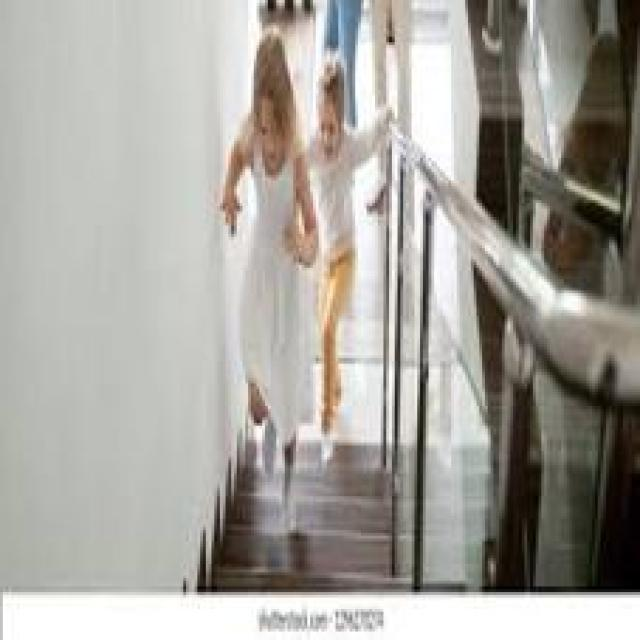stair: (192, 400, 406, 592)
